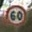limite 60: (4, 4, 27, 26)
